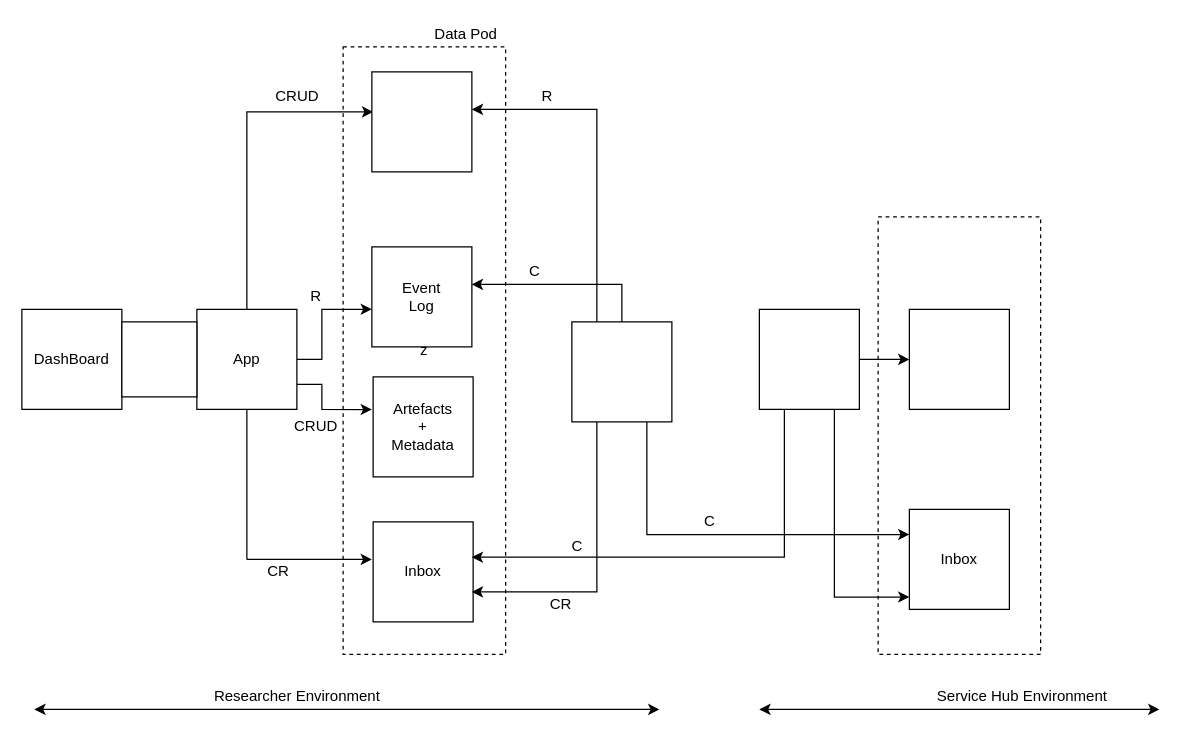
Image size: 1193x743. Some labels were removed from this diagram. Here are the shapes that lost their labels. From the top down, the box of each, then its label:
(371, 71, 472, 172): Rule book
(121, 321, 197, 397): API
(571, 321, 672, 422): Orchestrator
(758, 308, 859, 409): Something
